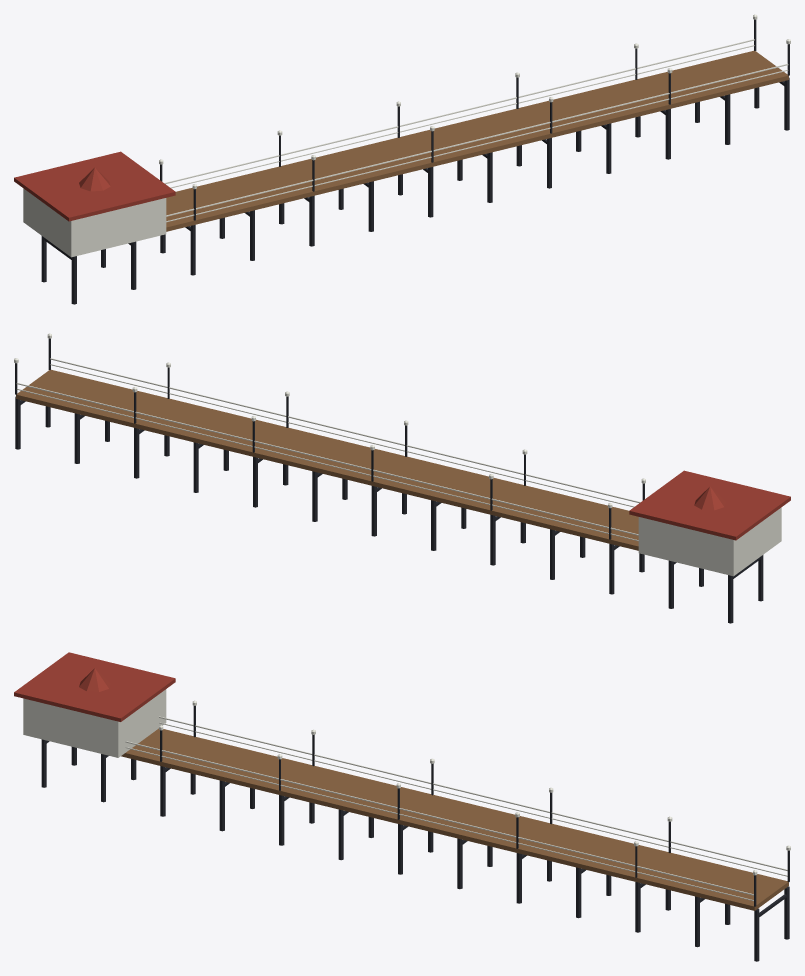
File: muelle_vergara.obj
The picture shows the model from 3 angles, top to bottom: view 1: azimuth 30°, elevation 25°; view 2: azimuth 150°, elevation 25°; view 3: azimuth 330°, elevation 25°; orthographic projection.
Visible parts, largest first — view 1: muelle_vergara; view 2: muelle_vergara; view 3: muelle_vergara.
Boxes of the visible parts, x1,y1,x2,y2 form: muelle_vergara: (14,14,790,304); muelle_vergara: (14,333,790,623); muelle_vergara: (14,652,790,961).
Bounding box in the file's own units: 61.72 × 9.35 × 8.
